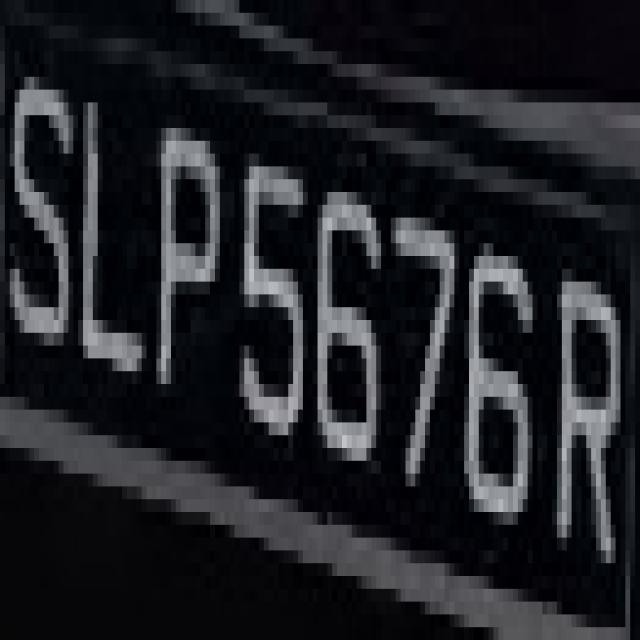5: (230, 102, 308, 448)
6: (459, 218, 552, 550), (308, 166, 391, 512)
7: (381, 153, 464, 524)
L: (73, 51, 147, 410)
P: (156, 77, 230, 410)
R: (538, 205, 620, 563)
S: (10, 13, 73, 371)
